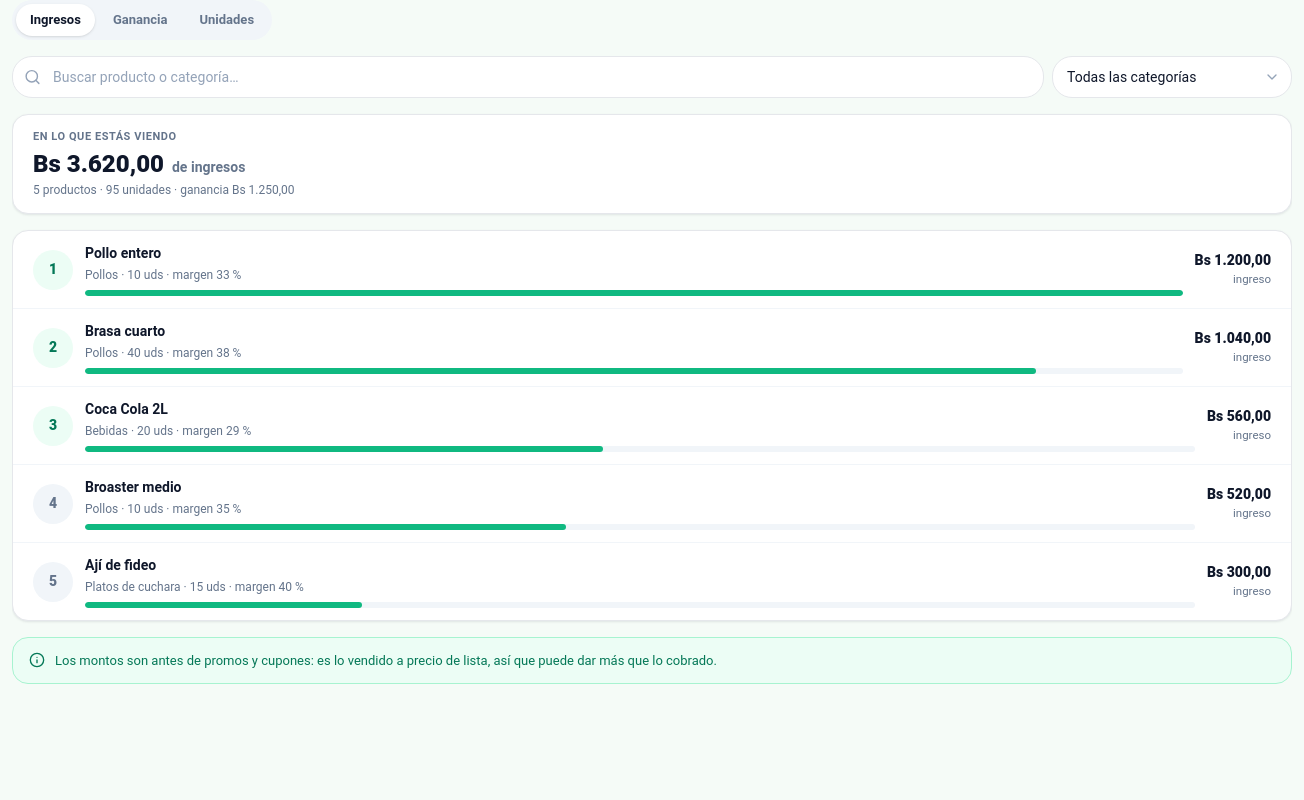
Test: Top productos del restaurante: contar lo que se busca › la categoría recorta la lista y se escribe al lado del total
The image size is (1304, 800).
Expected: the text "Brasa cuarto" is shown, [85,321,165,342]
Select "Bebidas" in the dropdown named "Categoría" at (1172, 76), box [1052,56,1292,98]
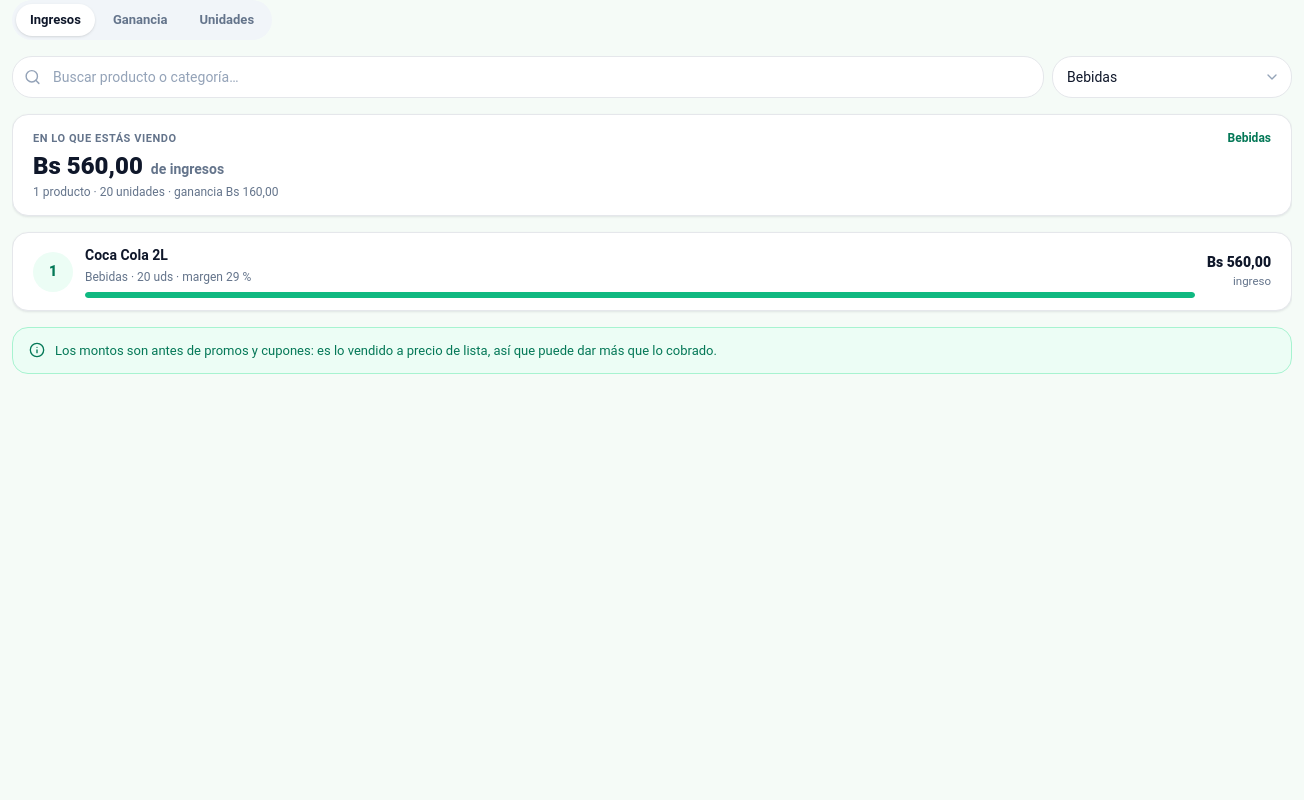
Expected: the element "En lo que estás viendo" shows "Bebidas", [1228,130,1271,144]
Expected: the element "En lo que estás viendo" shows "1 producto · 20 unidades", [33,185,278,199]
